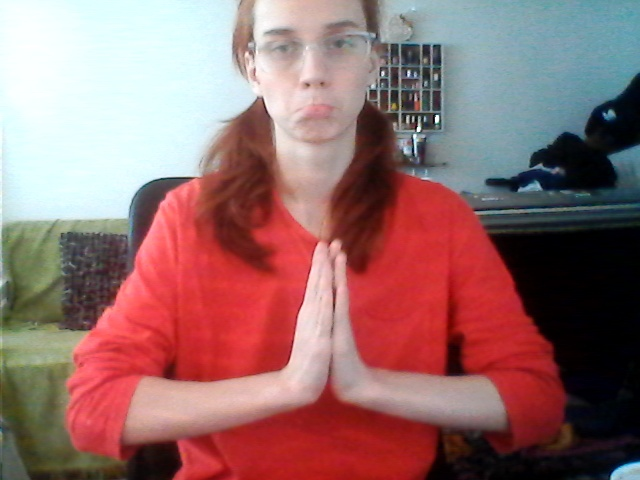prosim: (235, 231, 417, 433)
